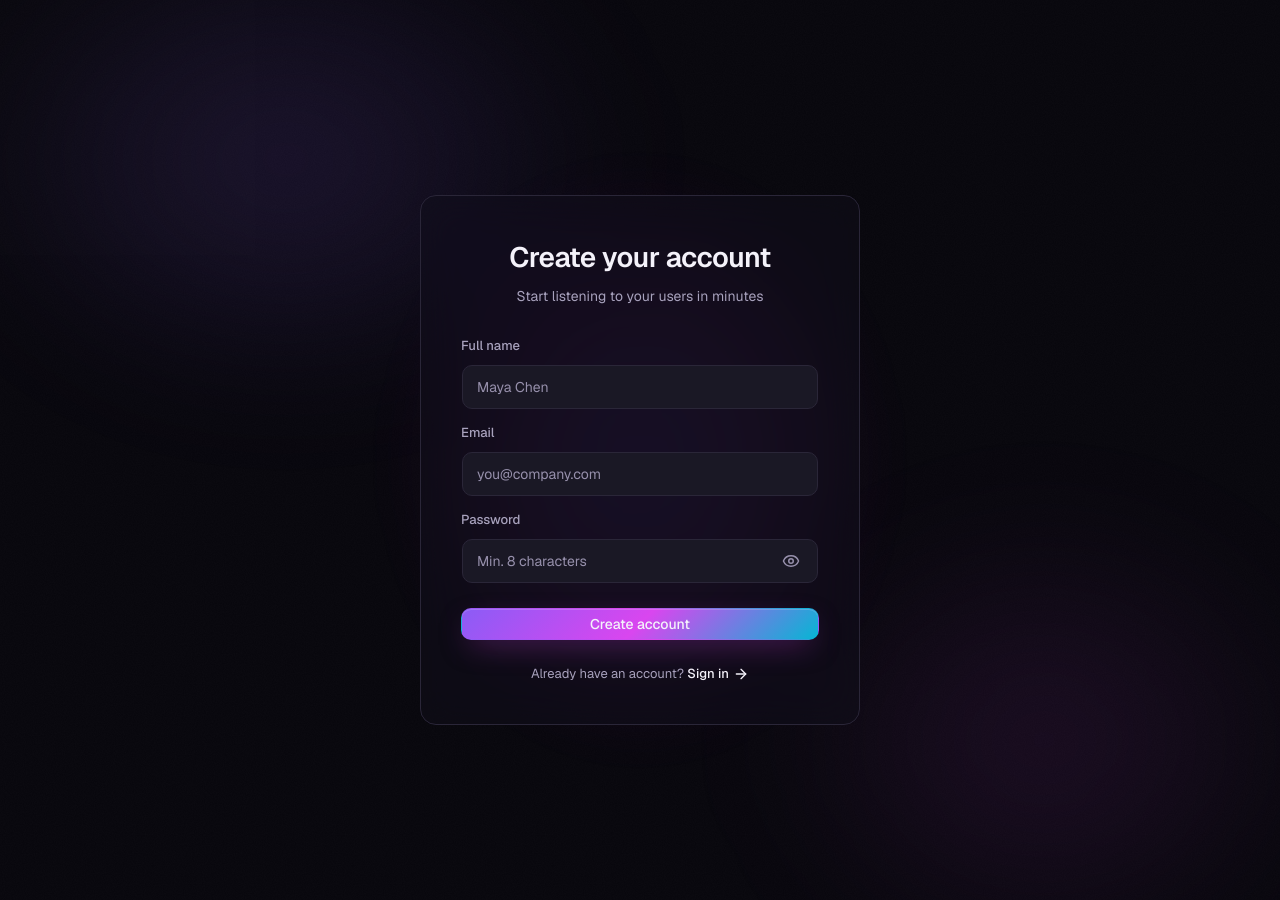
Test case: SignupPage — form validation › shows a validation error when the password is below the minimum length
Type "Test User" into the field with placeholder "Maya Chen" at (640,387), box x1=462 y1=365 x2=818 y2=409
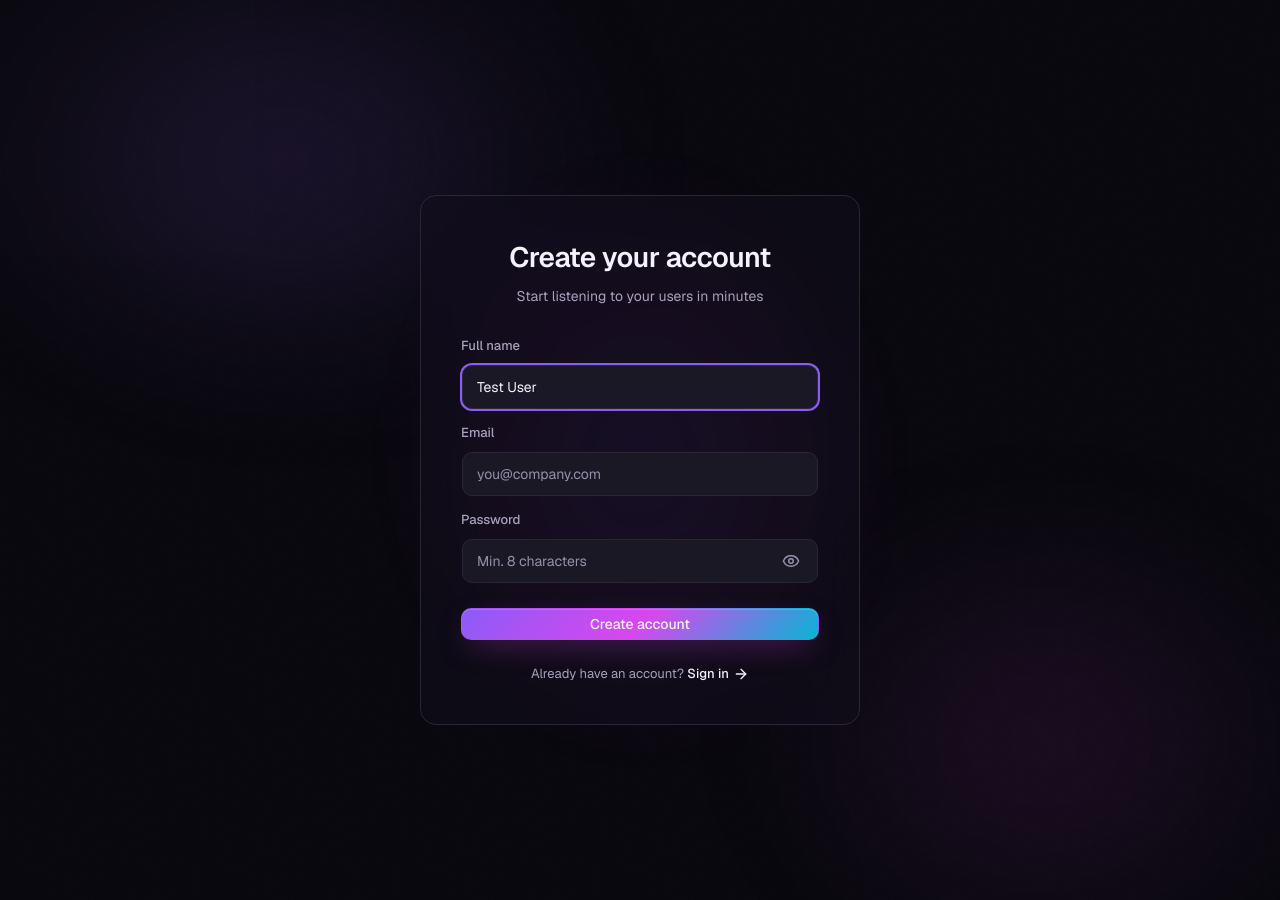
Type "user@example.com" into the field with placeholder "you@company.com" at (640,474), box x1=462 y1=452 x2=818 y2=496
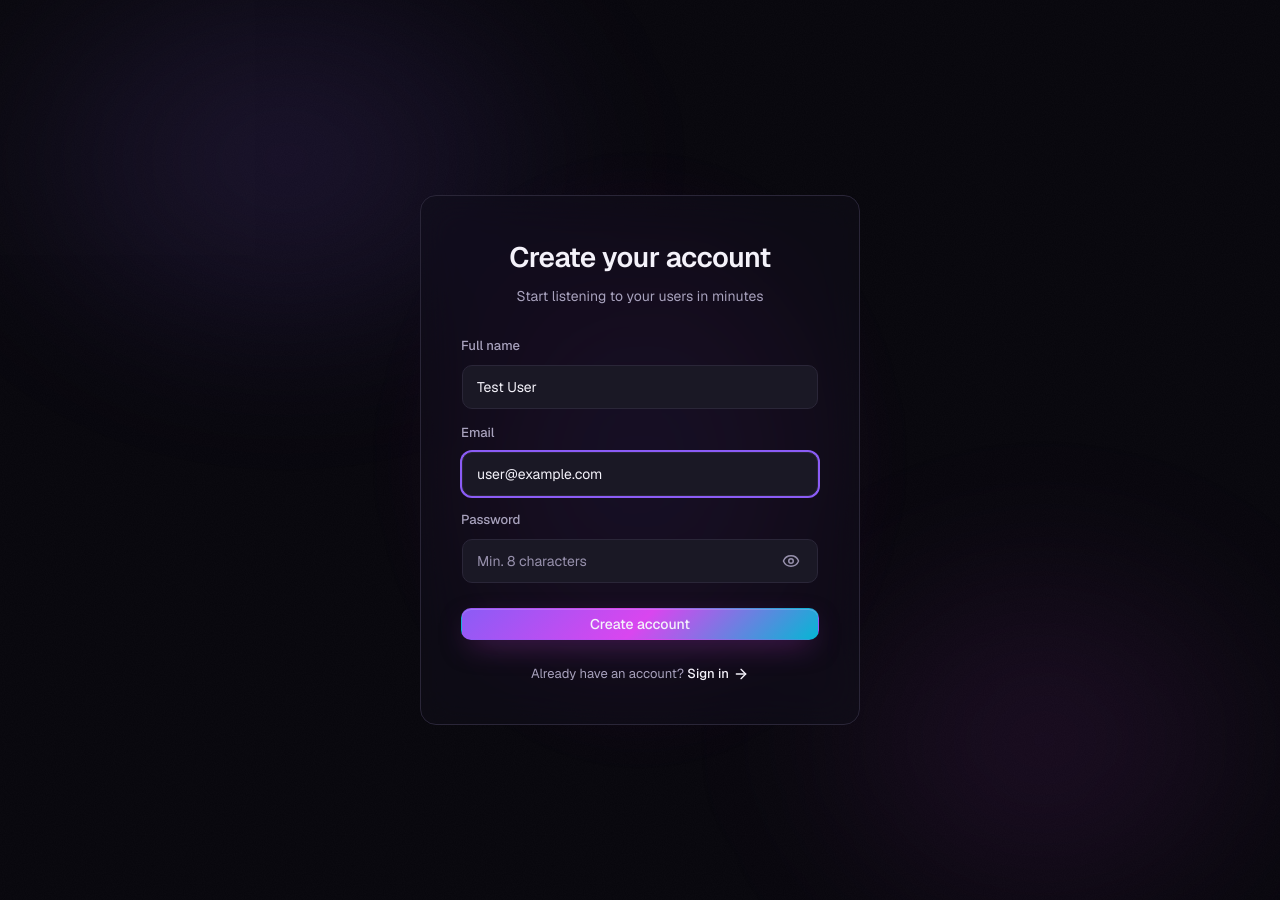
Type "short" into the password field with placeholder "Min. 8 characters" at (640,561), box x1=462 y1=539 x2=818 y2=583
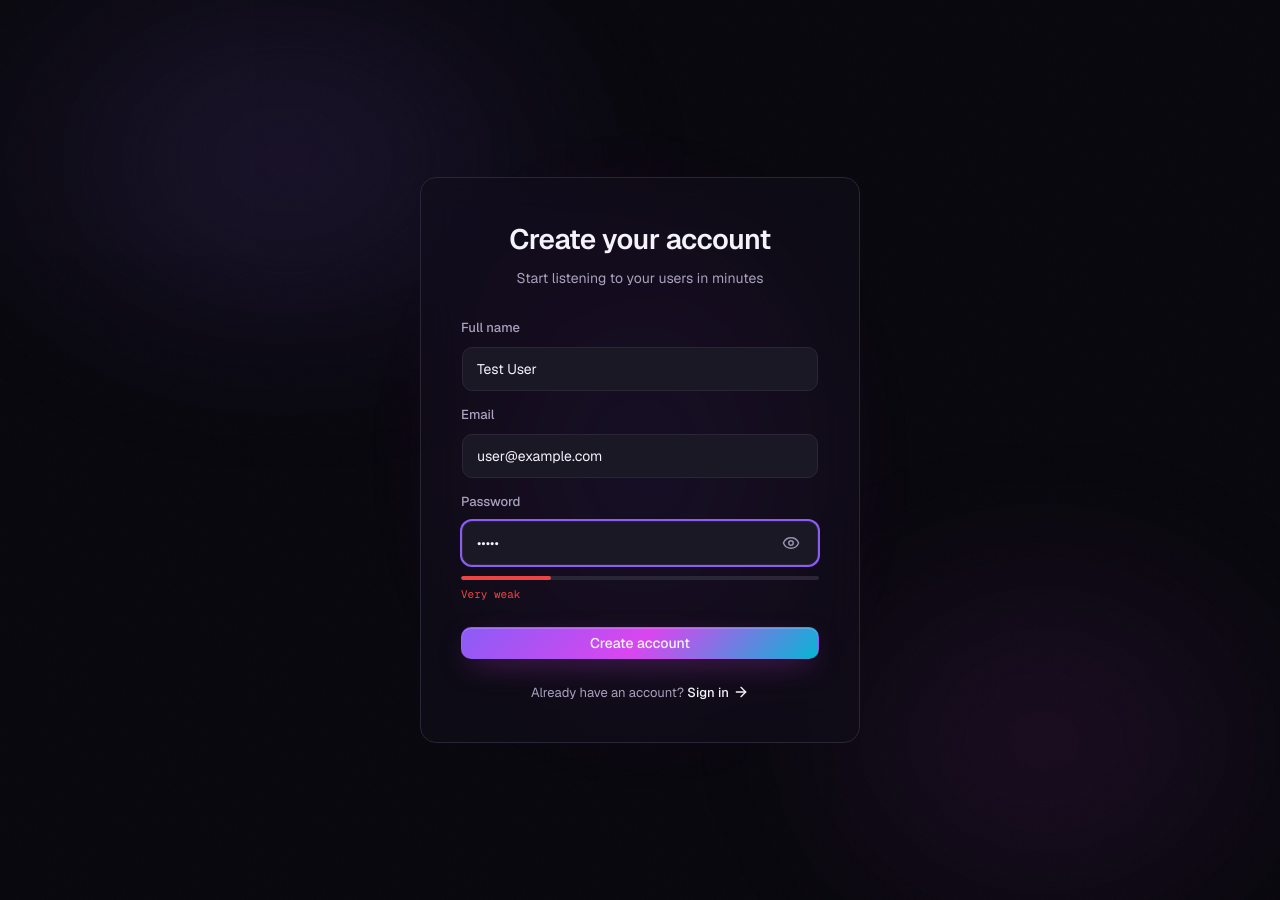
Click the button "Create account" at (640,642), box x1=461 y1=626 x2=819 y2=658
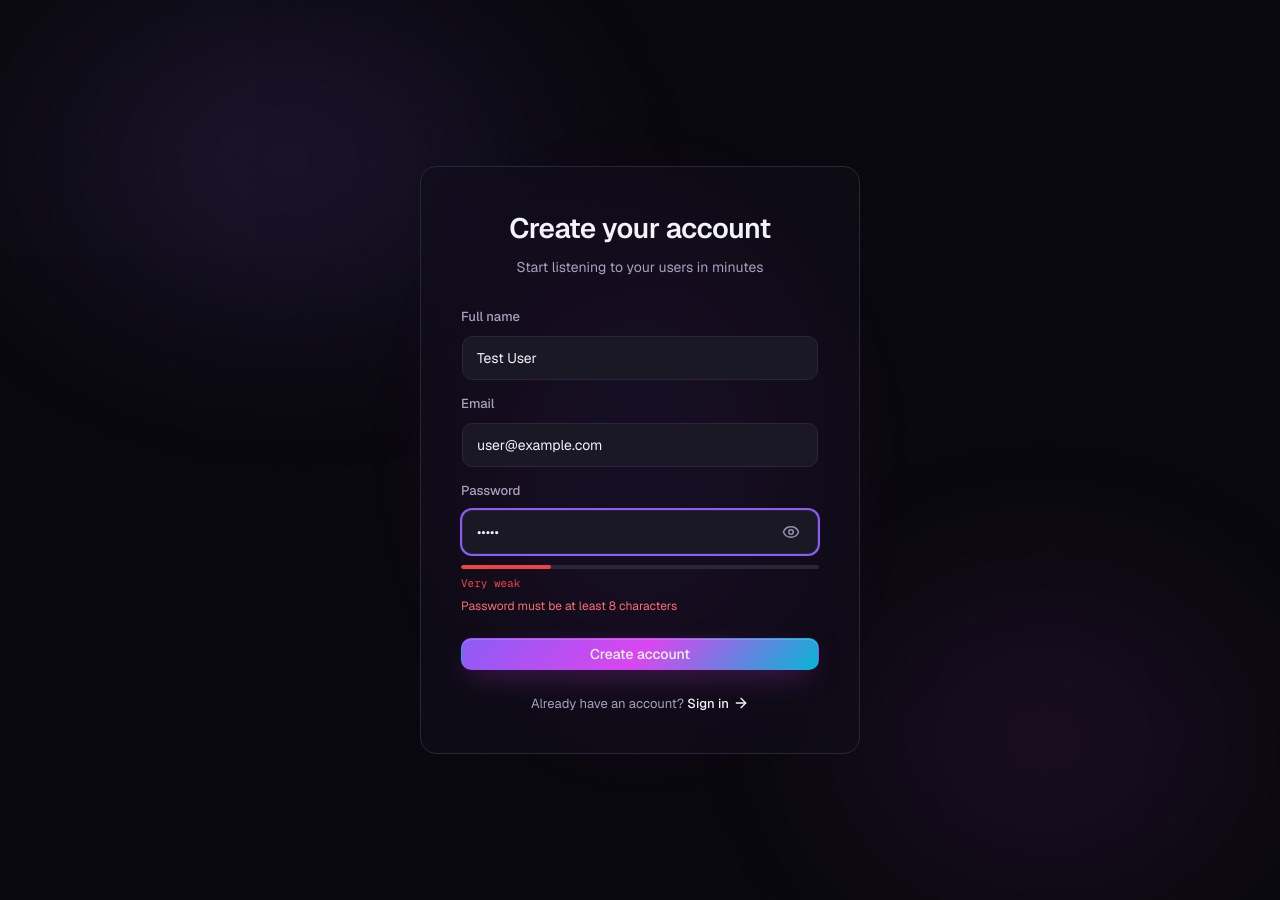
Expected: the text "Password must be at least 8 characters" is shown, x1=461 y1=598 x2=677 y2=614
